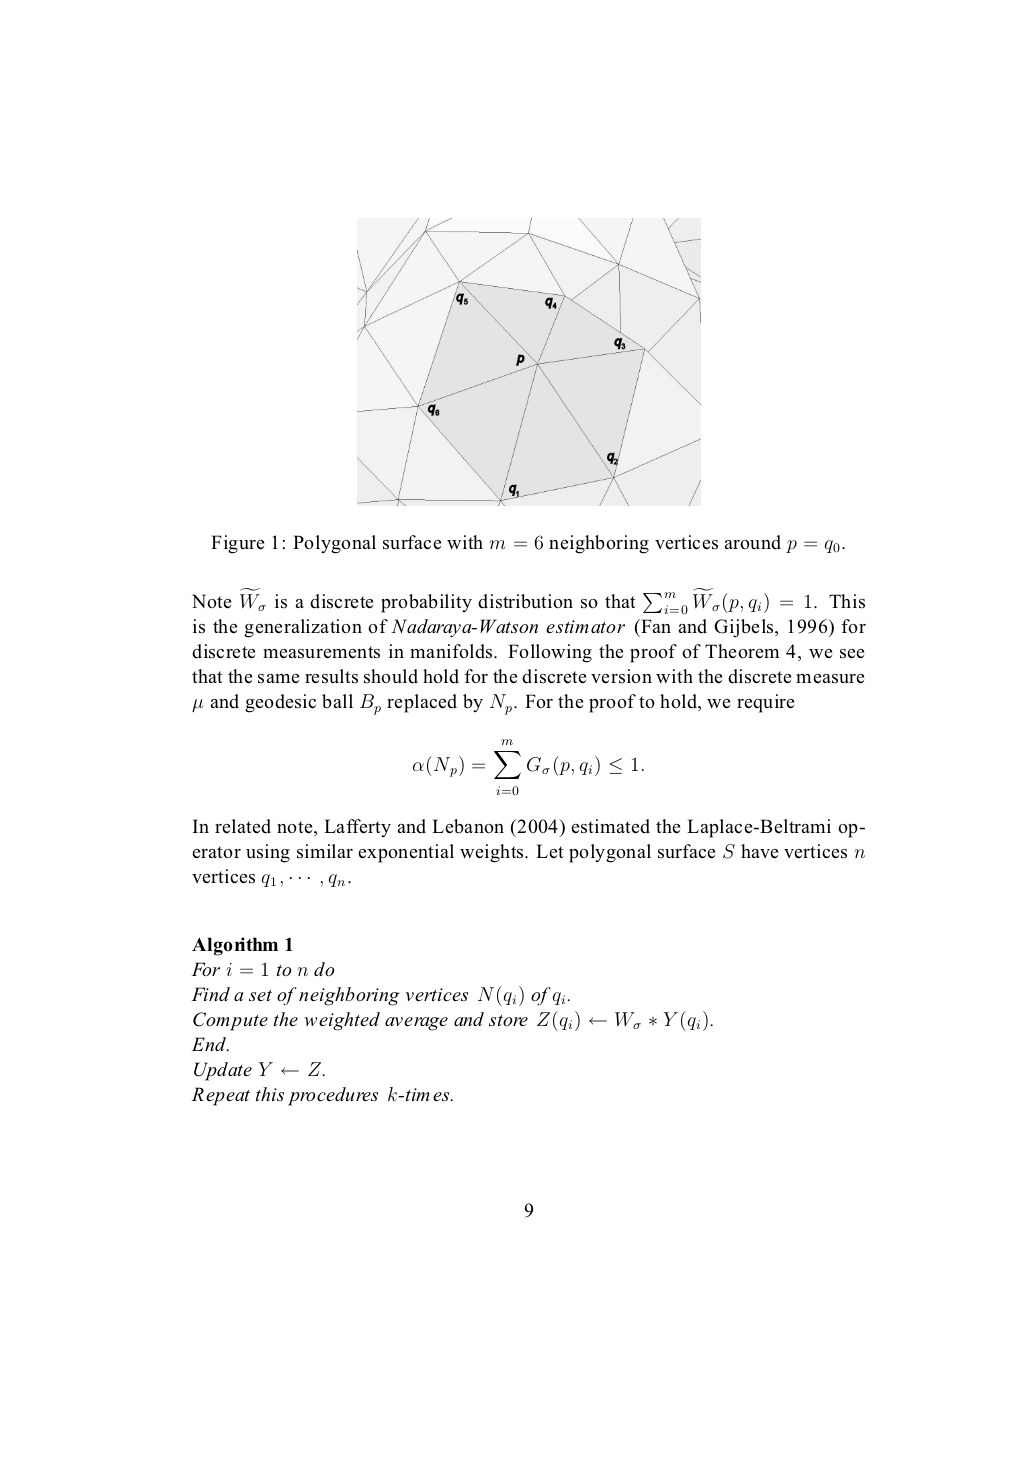figure: (357, 218, 700, 506)
formula: (412, 740, 643, 795)
